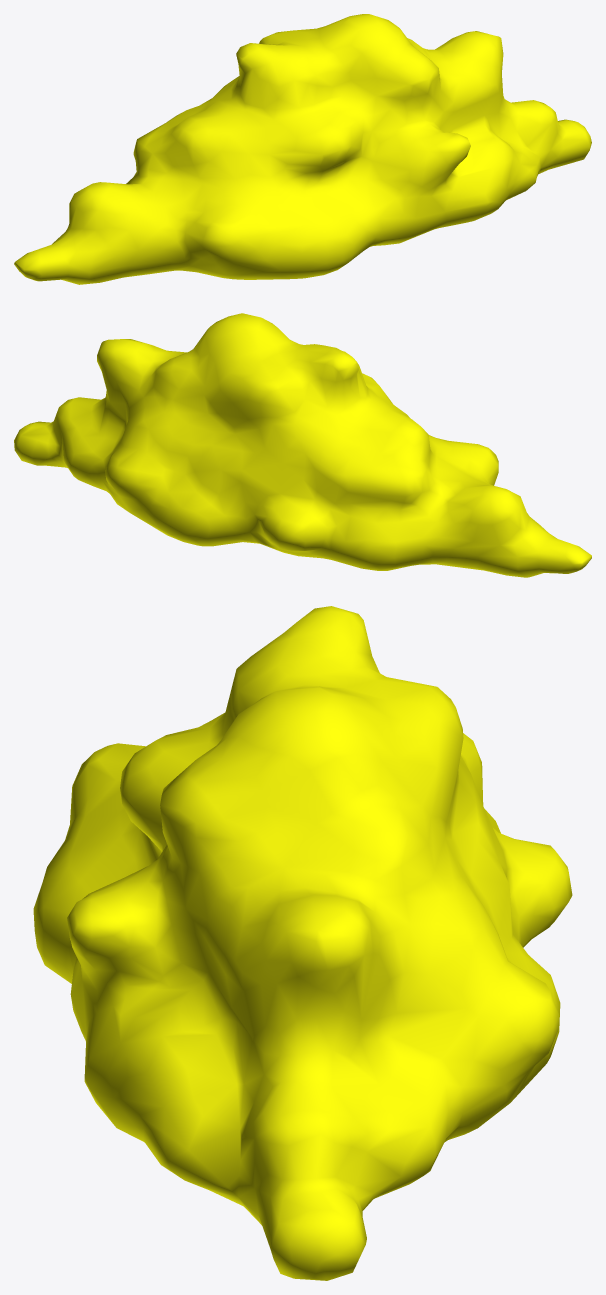
Rendered from cloud_f.glb.
3 renders of one model, top to bottom at view 1: azimuth 30°, elevation 25°; view 2: azimuth 150°, elevation 25°; view 3: azimuth 270°, elevation 25°, orthographic. The views are drawn at different scales.
Visible parts, largest first — view 1: SM_Cloud_06; view 2: SM_Cloud_06; view 3: SM_Cloud_06.
Part boxes in pixels (x1,y1,x2,y2): SM_Cloud_06: (14, 14, 591, 284); SM_Cloud_06: (14, 313, 591, 577); SM_Cloud_06: (33, 606, 572, 1280).
Bounding box in the file's own units: 18.06 × 5.84 × 7.46.
